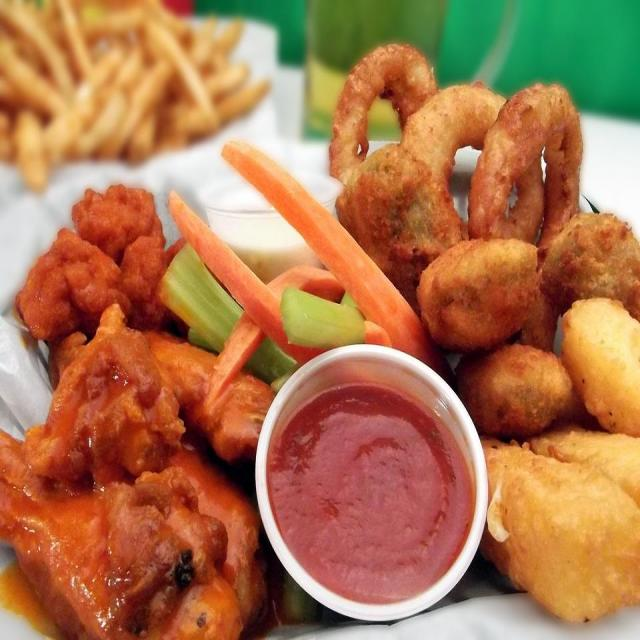Chicken Wings: (3, 176, 287, 636)
Onion Rings: (330, 41, 634, 360)
